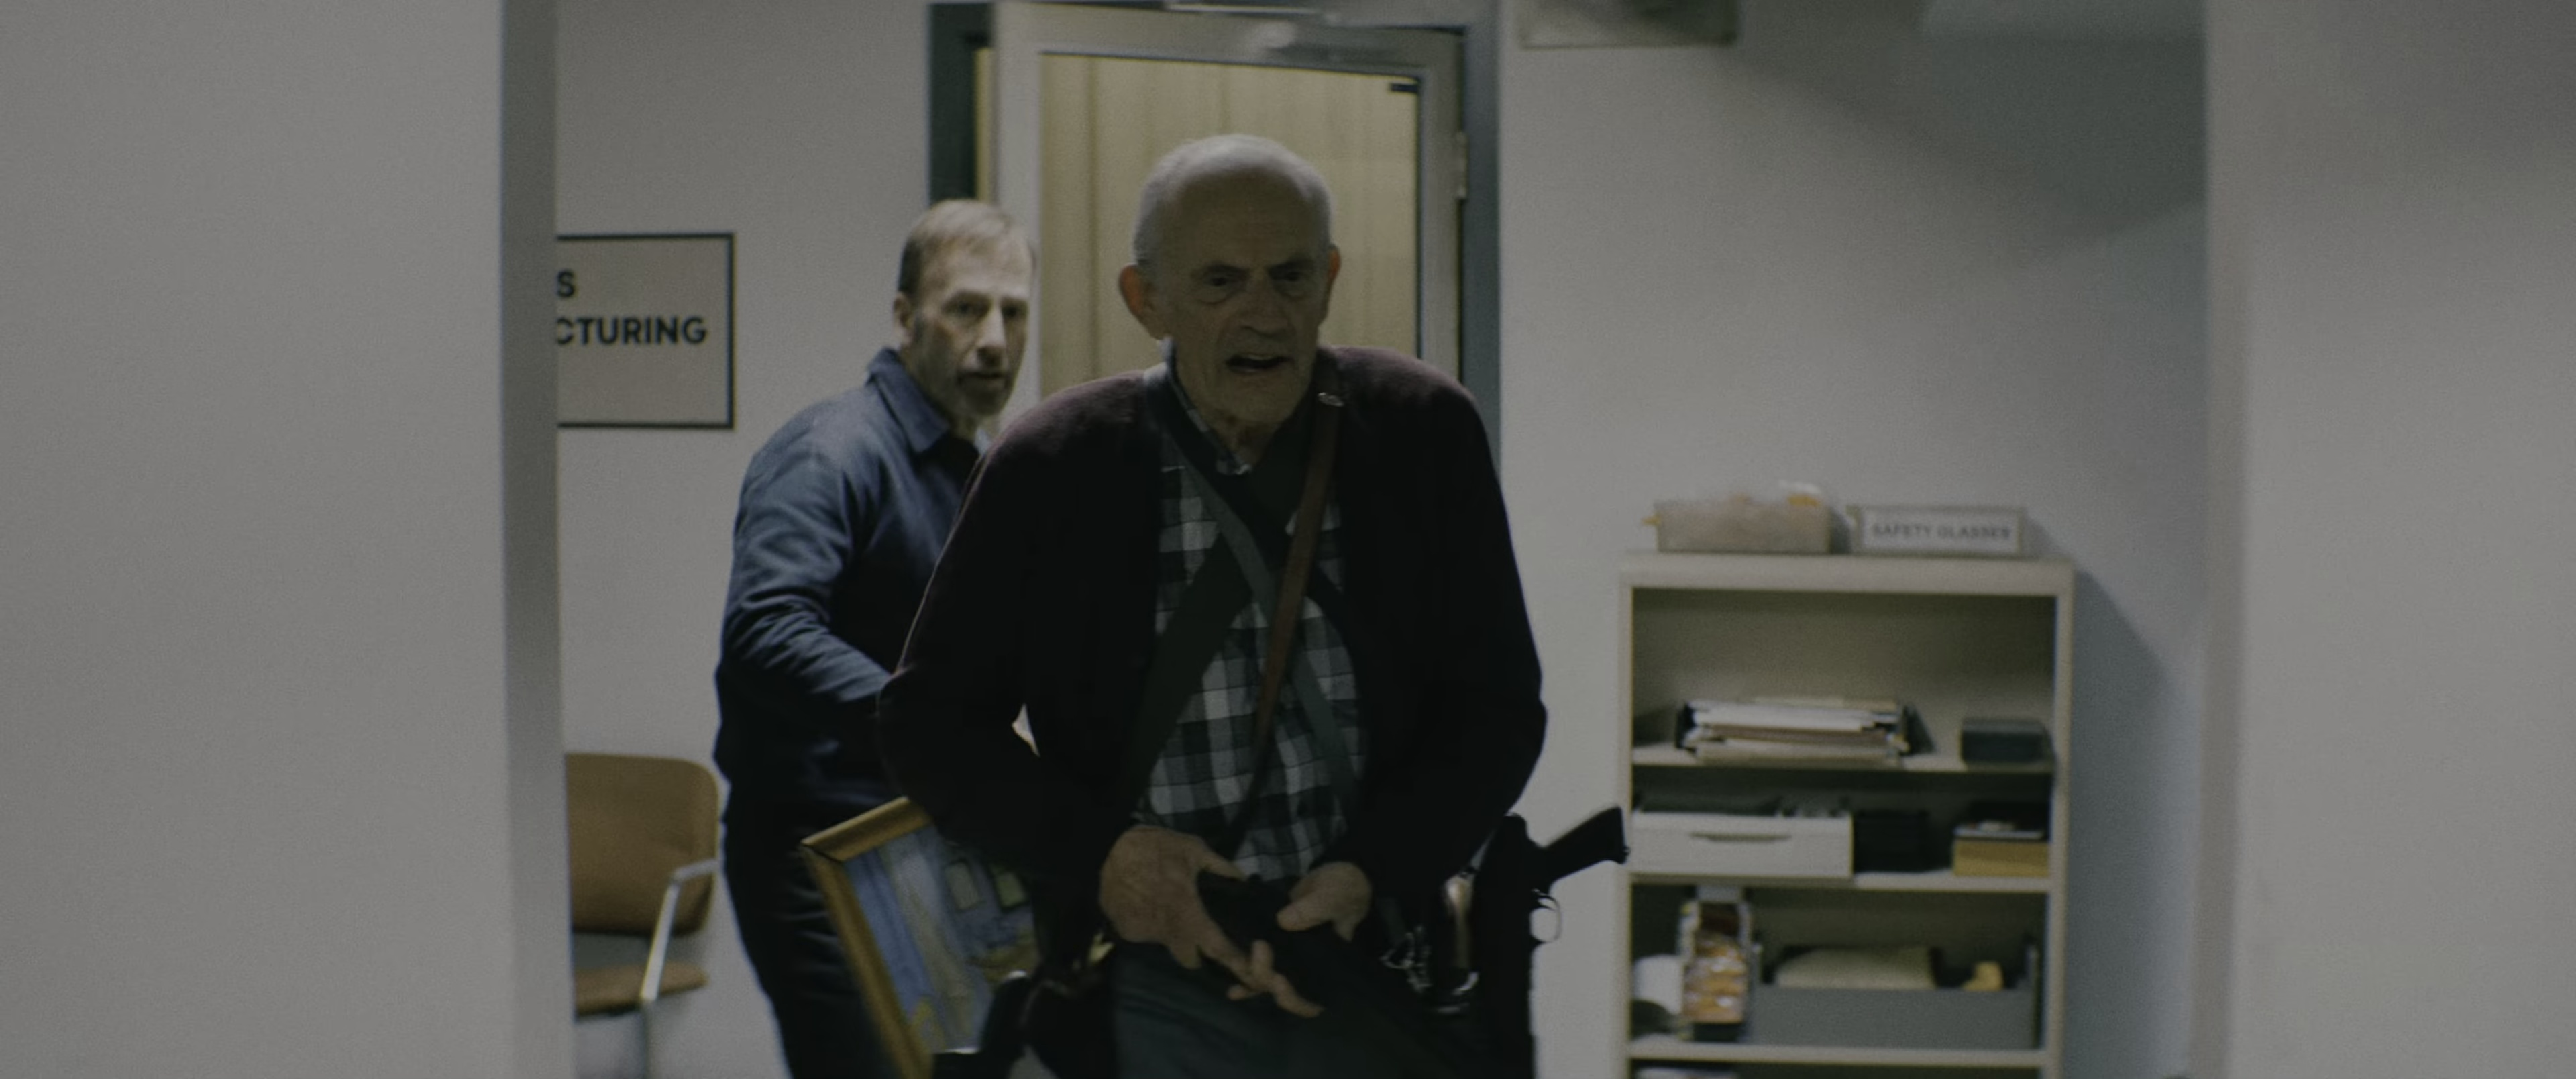gun: (1180, 861, 1475, 1074), (1460, 800, 1633, 1079)
p_w_gun: (884, 126, 1635, 1079)
p_wo_gun_carrying_another_object: (706, 197, 1033, 1079)
